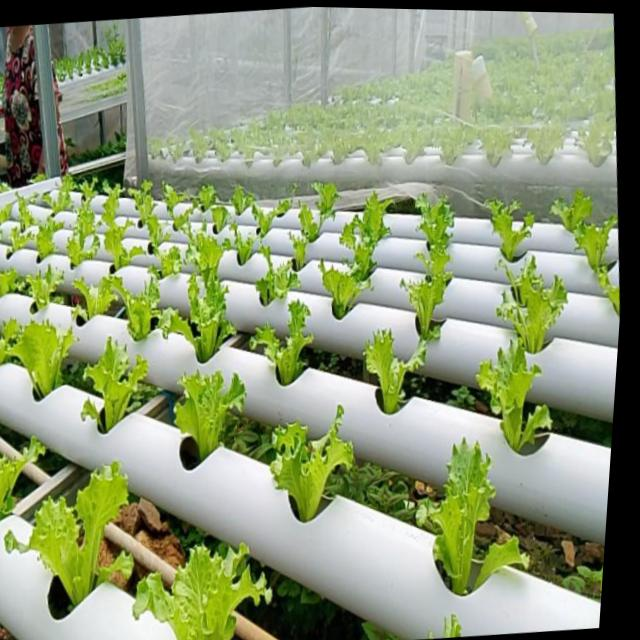Baby: (3, 458, 130, 601), (130, 543, 268, 640), (414, 439, 491, 596), (267, 406, 351, 523), (473, 342, 547, 455), (399, 197, 451, 350), (171, 371, 244, 469), (494, 258, 563, 356), (81, 337, 145, 432), (6, 315, 76, 396), (248, 301, 311, 386), (361, 331, 423, 416), (99, 271, 168, 341), (338, 194, 390, 282), (241, 247, 298, 307), (568, 219, 614, 292), (316, 262, 369, 321), (483, 201, 531, 265), (64, 182, 100, 267), (183, 225, 228, 288), (40, 173, 72, 212), (33, 214, 60, 258), (157, 245, 180, 277), (169, 203, 191, 234), (15, 193, 33, 230)
